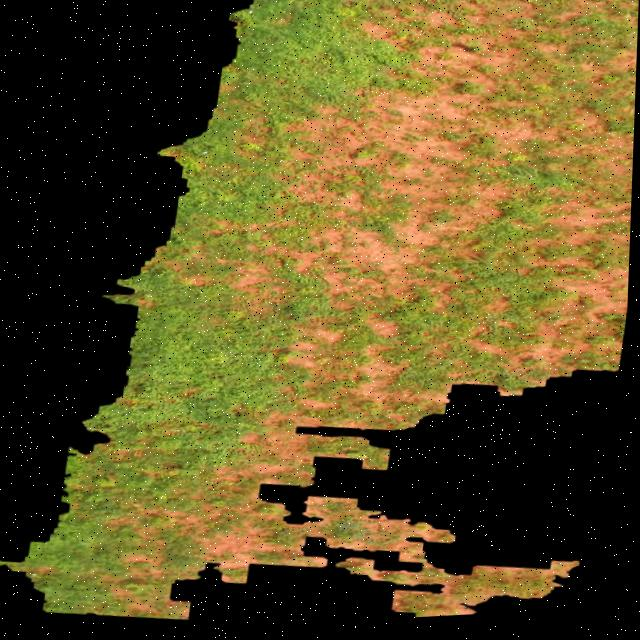Weed: (0, 0, 639, 622)
